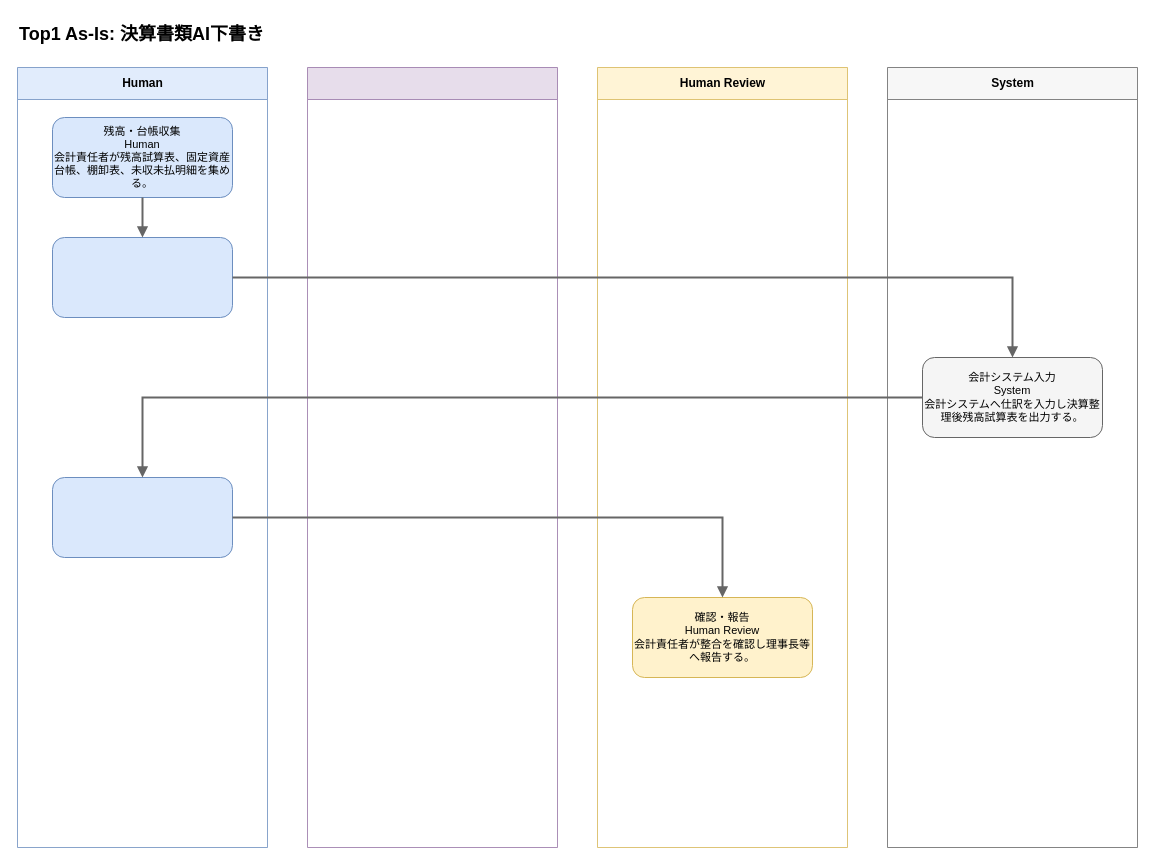
This 1155x865 diagram has some shape labels left out. The shapes that lost their labels are listed below. From the top down, each one's box as (x1, y1, x2, y2) in pixels, then its label:
(52, 236, 232, 318): 決算整理仕訳作成 Human 根拠資料を確認しながら整理仕訳を作成する。
(306, 66, 558, 848): AI
(52, 476, 232, 558): 計算書類作成 Human 貸借対照表、資金収支計算書、事業活動計算書、注記、附属明細書を作成する。
